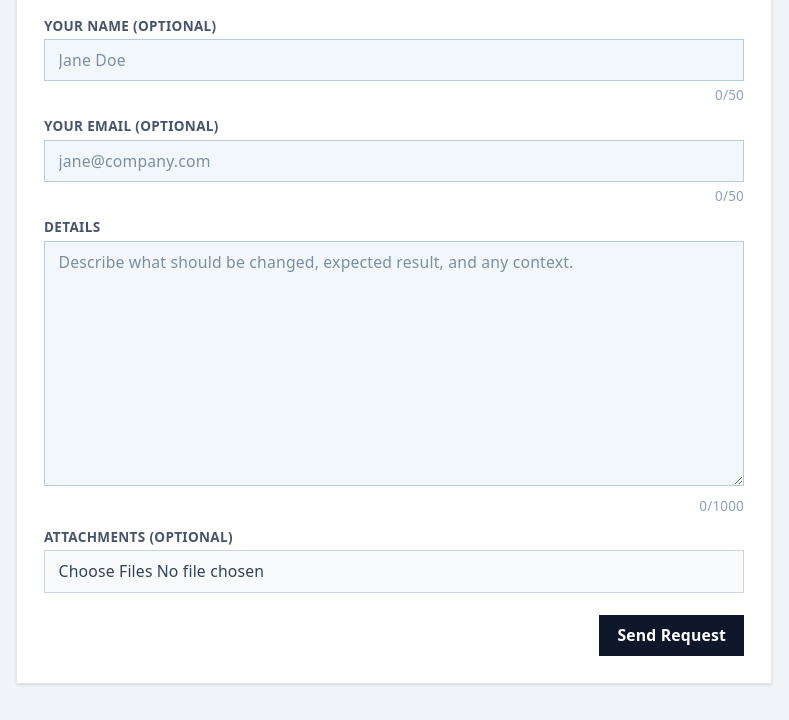
Test: ClientIntakePage › shows required field error on submit when details are empty
This screenshot has width=789, height=720.
(page scrolled)
Click the button "Send Request" at coordinates (672, 636), box [599,616,744,656]
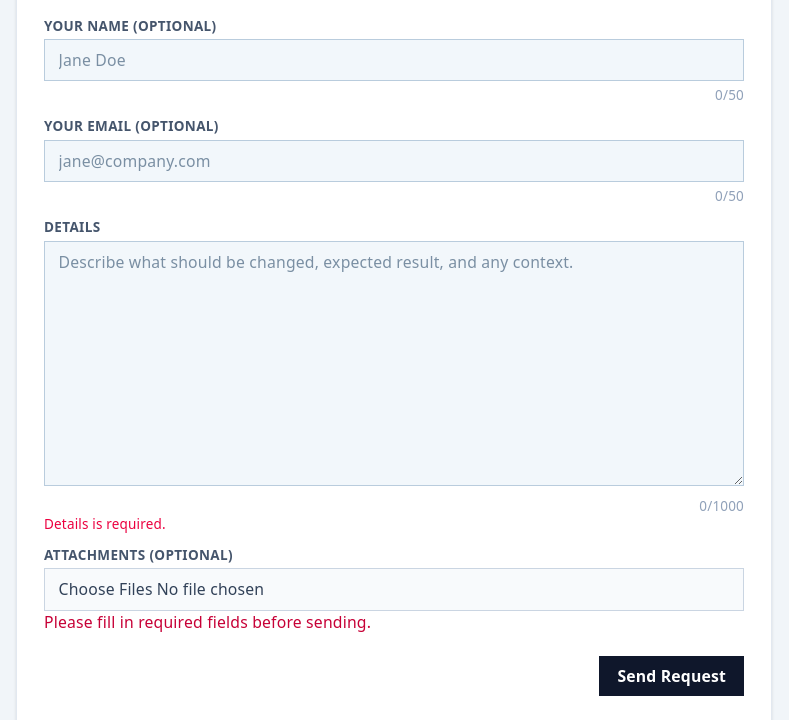
Expected: the text "Details is required." is shown, [44,514,166,532]
